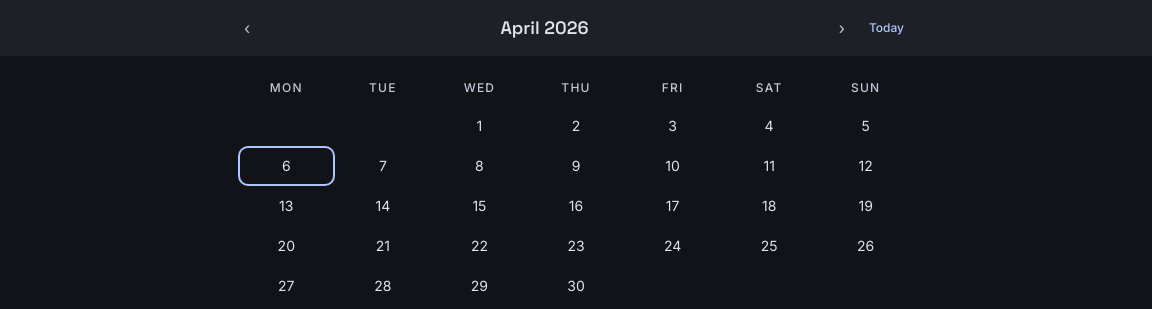
Scenario: RemindersView › returns to month grid when back button is clicked in day detail
The width and height of the screenshot is (1152, 309).
Go to day detail
Step 1. Click the button with test id "day-cell-2026-04-10" → (673, 166), box 626,148 -> 719,184
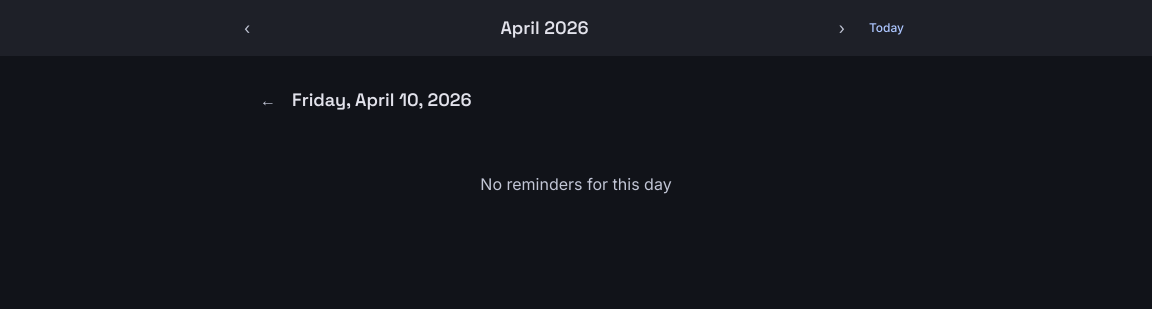
Expected: the element with test id "day-detail-header" is shown, 256,84 -> 472,116
Click back
Step 2. Click the button with test id "day-detail-back" → (268, 100), box 256,84 -> 280,116
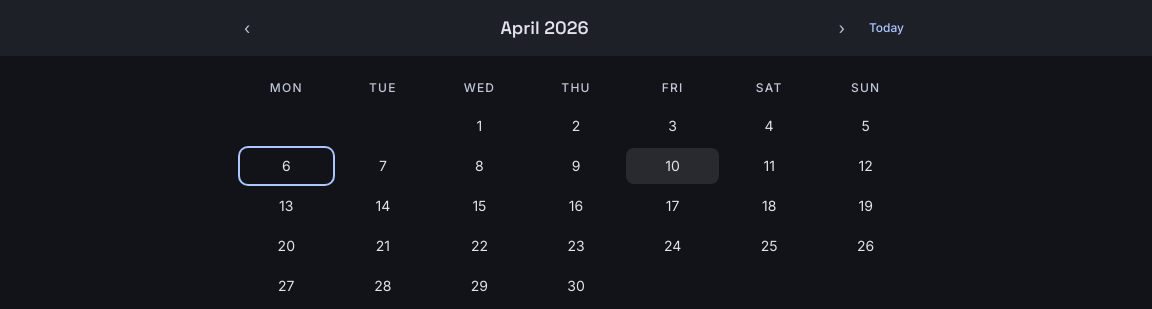
Expected: the button with test id "day-cell-2026-04-10" is shown, 626,148 -> 719,184
Expected: the element with test id "day-detail-header" is gone
